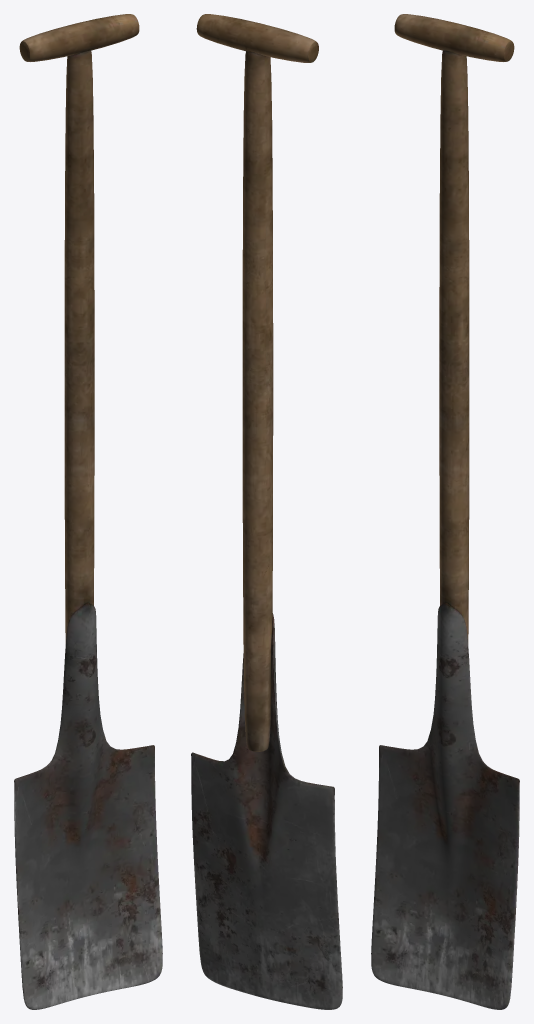
The model's file is rusted_spade_01.glb.
3 renders of one model, left to right at view 1: azimuth 30°, elevation 25°; view 2: azimuth 150°, elevation 25°; view 3: azimuth 330°, elevation 25°, orthographic. The views are drawn at different scales.
Parts seen in each view (by area): view 1: rusted_spade_01; view 2: rusted_spade_01; view 3: rusted_spade_01.
Boxes of the visible parts, <box> form: rusted_spade_01: <box>14,14,162,1009</box>; rusted_spade_01: <box>191,14,342,1009</box>; rusted_spade_01: <box>371,14,519,1009</box>.
Size of the model in its own units: 0.1681 by 1.1 by 0.0456.
Materials: 1 (1 with a texture image).
